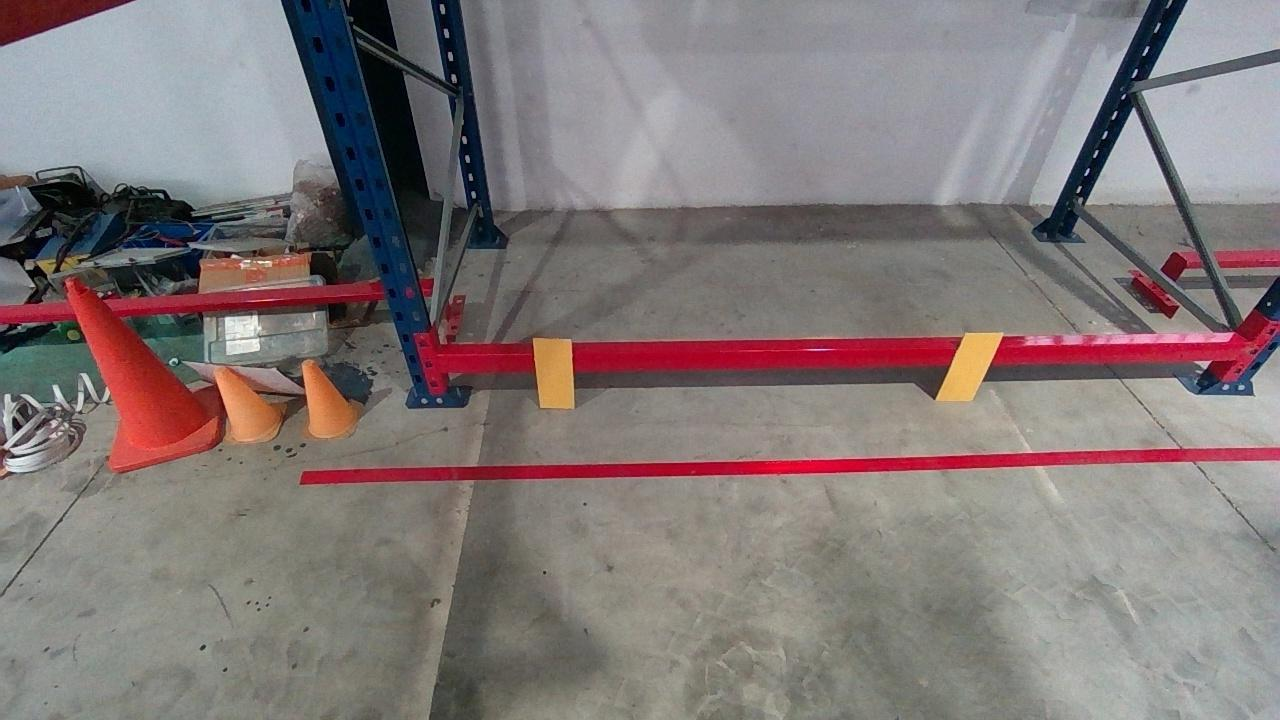h_rack: (441, 343, 1243, 374)
orange_strip: (934, 332, 1006, 401), (531, 339, 574, 407)
red_line: (292, 447, 1274, 481)
